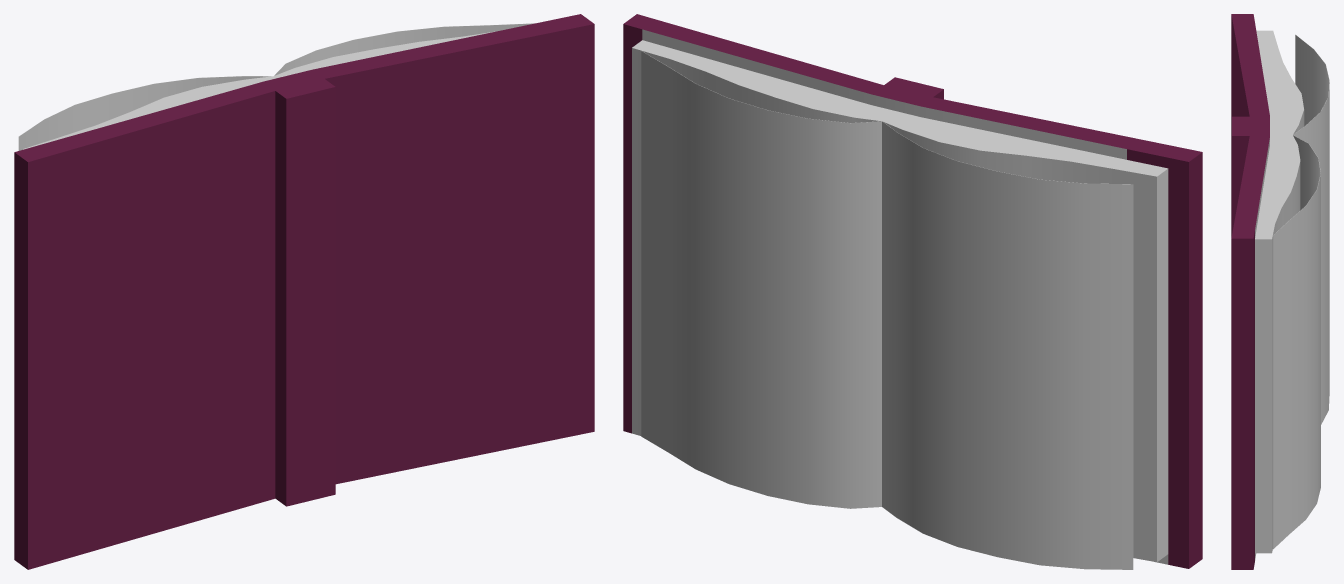
File: book2.fbx
3 views of the same model, side by side, from view 1: azimuth 30°, elevation 25°; view 2: azimuth 150°, elevation 25°; view 3: azimuth 270°, elevation 25° (orthographic). The views are drawn at different scales.
Parts seen in each view (by area): view 1: Book; view 2: Book; view 3: Book.
Part boxes in pixels (left/top/right/bottom): Book: left=14, top=14, right=594, bottom=569; Book: left=623, top=14, right=1202, bottom=569; Book: left=1231, top=14, right=1329, bottom=569.
Bounding box in the file's own units: 385 × 265 × 71.13.
